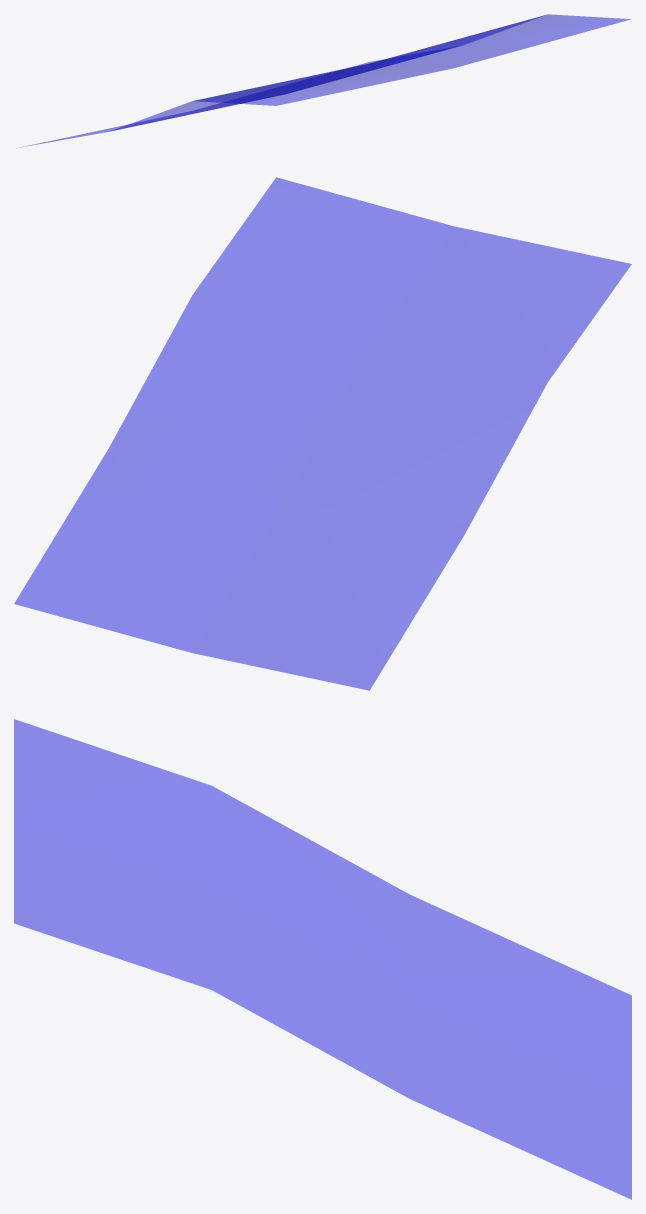
Rendered from track_la_coll_road_06.fbx.
3 views of the same model, one above another, from view 1: azimuth 30°, elevation 25°; view 2: azimuth 150°, elevation 25°; view 3: azimuth 270°, elevation 25° (orthographic). The views are drawn at different scales.
Parts seen in each view (by area): view 1: track_la_coll_road_06; view 2: track_la_coll_road_06; view 3: track_la_coll_road_06.
Part boxes in pixels (<box>): track_la_coll_road_06: <box>21,14,630,147</box>; track_la_coll_road_06: <box>14,177,631,690</box>; track_la_coll_road_06: <box>14,719,631,1199</box>.
Size of the model in its own units: 26.62 by 17.19 by 34.01.
